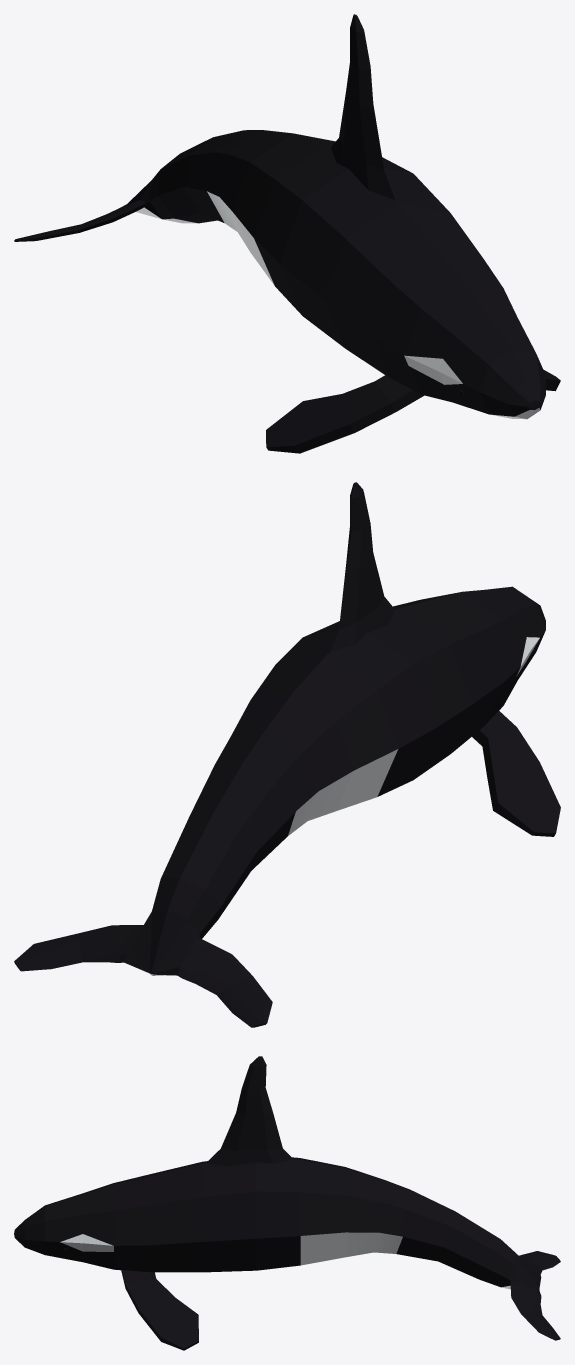
Rendered from Killer Whale.glb.
3 renders of one model, top to bottom at view 1: azimuth 30°, elevation 25°; view 2: azimuth 150°, elevation 25°; view 3: azimuth 270°, elevation 25°, orthographic. The views are drawn at different scales.
Visible parts, largest first — view 1: Geo_Orca; view 2: Geo_Orca; view 3: Geo_Orca.
Part boxes in pixels (x1=…): Geo_Orca: x1=14, y1=14, x2=560, y2=453; Geo_Orca: x1=14, y1=482, x2=560, y2=1027; Geo_Orca: x1=14, y1=1056, x2=560, y2=1350.
Bounding box in the file's own units: 235 × 278 × 560.
Materials: 1 (1 with a texture image).
